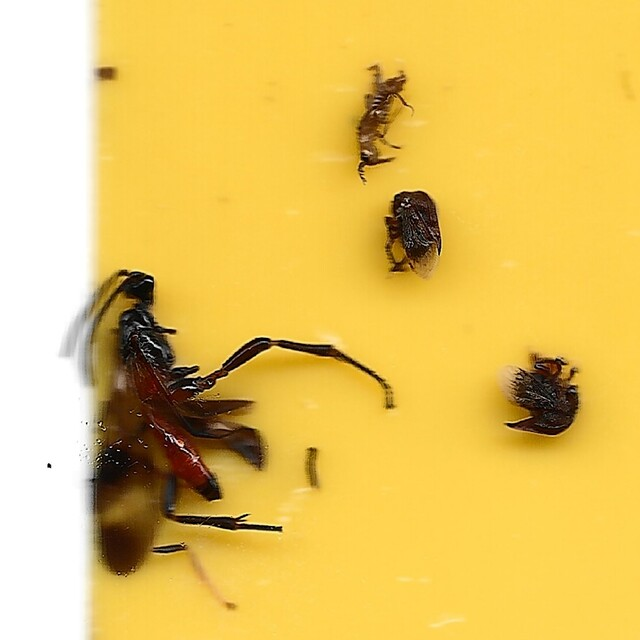Hemiptera: (497, 351, 582, 438), (382, 191, 443, 281)
Hymenoptera: (58, 268, 391, 576), (353, 64, 415, 185)
